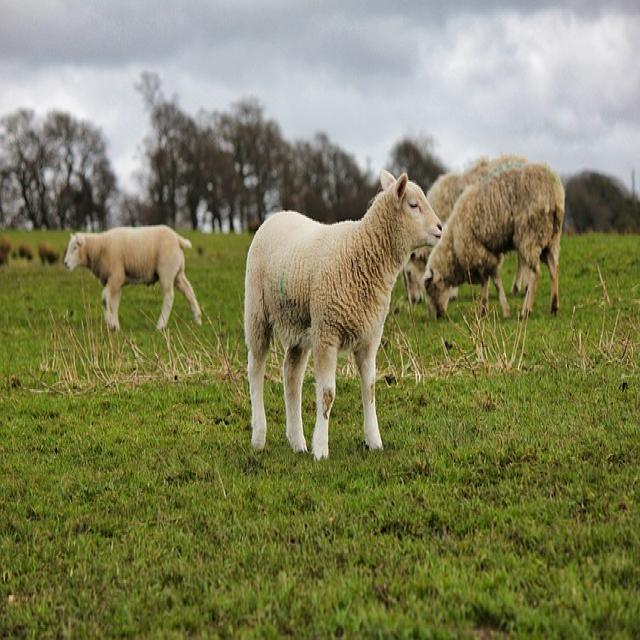sheep: (243, 166, 442, 460), (422, 160, 565, 322), (62, 222, 202, 334), (38, 240, 59, 266)
